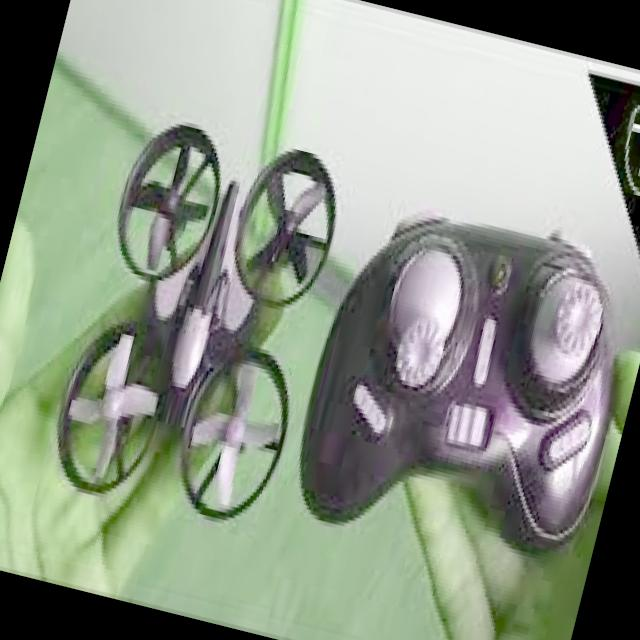drone: (38, 78, 371, 558)
